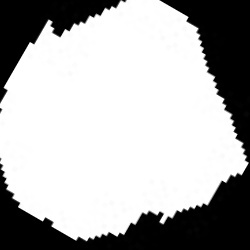spot: (0, 3, 247, 242)
